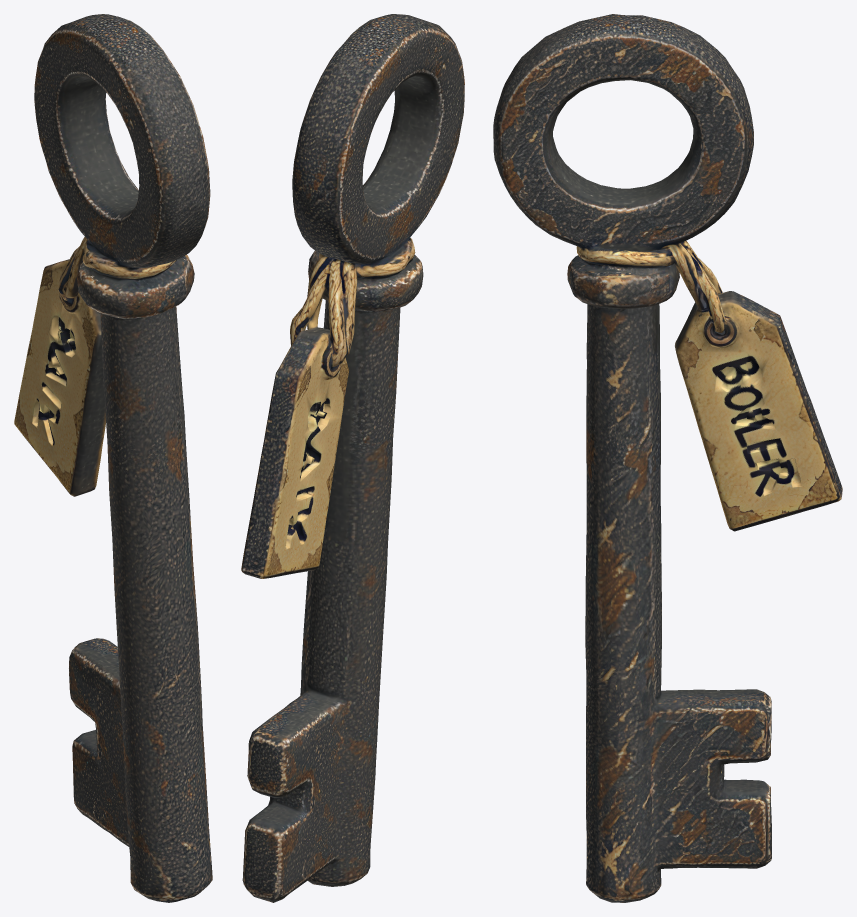
File: KeyBoiler.fbx
3 views of the same model, side by side, from view 1: azimuth 30°, elevation 25°; view 2: azimuth 150°, elevation 25°; view 3: azimuth 270°, elevation 25° (orthographic). The views are drawn at different scales.
Parts seen in each view (by area): view 1: tripo_node_52167cc1-cee9-4bdf-805c-b565b9a9af9d; view 2: tripo_node_52167cc1-cee9-4bdf-805c-b565b9a9af9d; view 3: tripo_node_52167cc1-cee9-4bdf-805c-b565b9a9af9d.
Part boxes in pixels (x1,y1,x2,y2): tripo_node_52167cc1-cee9-4bdf-805c-b565b9a9af9d: (14,14,212,902); tripo_node_52167cc1-cee9-4bdf-805c-b565b9a9af9d: (241,14,464,902); tripo_node_52167cc1-cee9-4bdf-805c-b565b9a9af9d: (493,14,842,902).
Size of the model in its own units: 14.62 by 100 by 37.27.
1 material, 1 textured.
